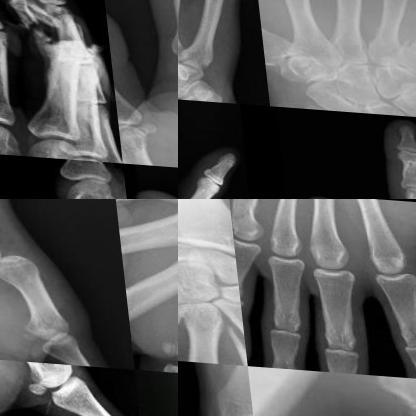fracture: (12, 4, 72, 59), (393, 28, 415, 69)
